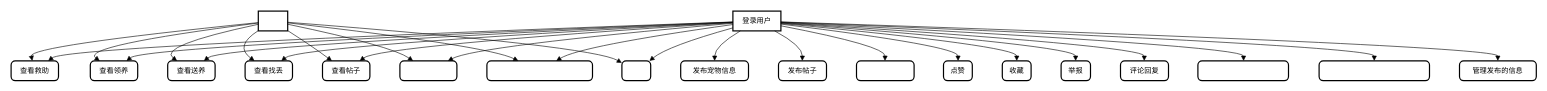
Some shapes in this 1547 by 91 pixel diagram are drawn without their labels. Each missing label, with the centre of its shape:
"关注/取关其他用户" goes at (x=1243, y=70).
"发布宠物秀" goes at (x=885, y=70).
"搜索" goes at (x=636, y=70).
"查看/修改个人主页信息" goes at (x=1374, y=70).
"查看宠物秀" goes at (x=428, y=70).
"查看目标用户主页信息" goes at (x=539, y=70).
"游客" goes at (x=272, y=20).
